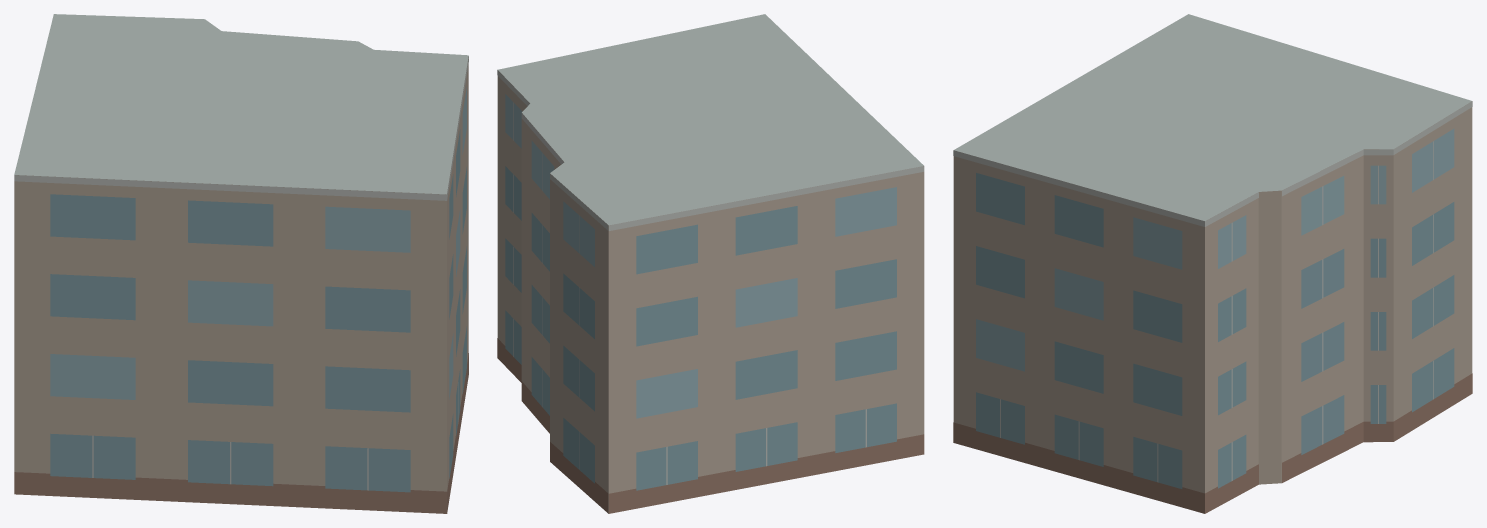
Rendered from survey-upis-32657992.glb.
The picture shows the model from 3 angles, left to right: view 1: azimuth 30°, elevation 25°; view 2: azimuth 150°, elevation 25°; view 3: azimuth 270°, elevation 25°; orthographic projection. The views are drawn at different scales.
Visible parts, largest first — view 1: survey-upis-32657992.tmp; view 2: survey-upis-32657992.tmp; view 3: survey-upis-32657992.tmp.
Boxes of the visible parts, x1,y1,x2,y2 form: survey-upis-32657992.tmp: (14, 14, 468, 513); survey-upis-32657992.tmp: (497, 14, 924, 513); survey-upis-32657992.tmp: (953, 14, 1472, 513).
Size of the model in its own units: 18.39 by 12.1 by 19.45.
